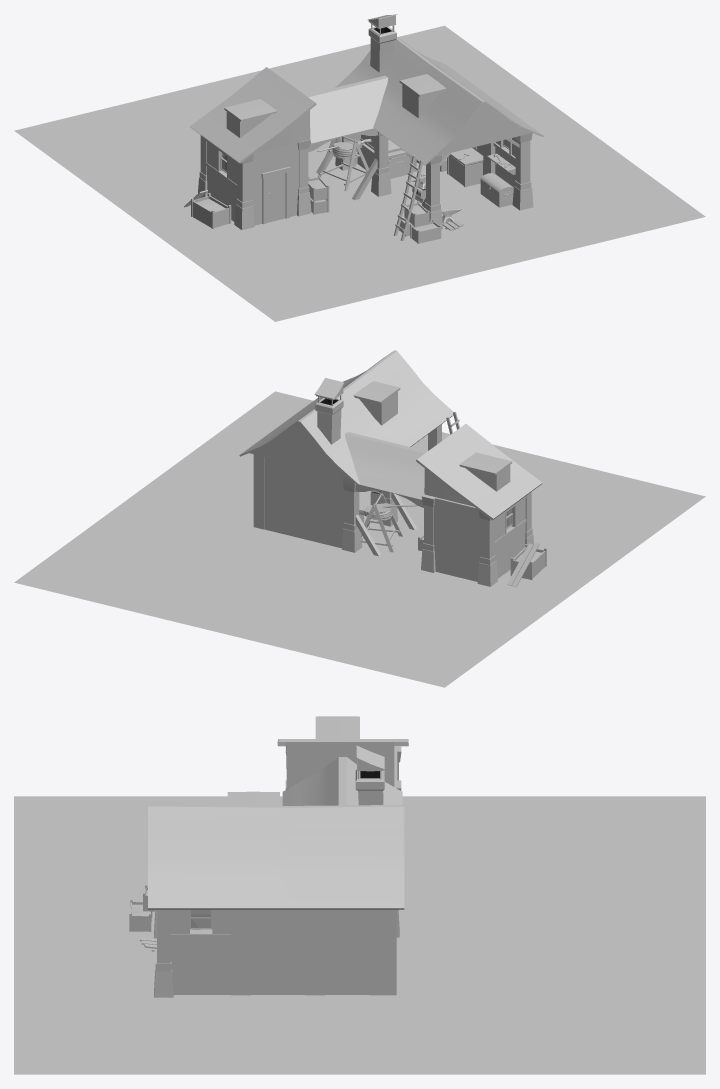
Rendered from Forge.fbx.
The picture shows the model from 3 angles, top to bottom: view 1: azimuth 30°, elevation 25°; view 2: azimuth 150°, elevation 25°; view 3: azimuth 270°, elevation 25°; orthographic projection. The views are drawn at different scales.
Parts seen in each view (by area): view 1: pointLight2; view 2: pointLight2; view 3: pointLight2.
Boxes of the visible parts, box(x1,y1,x2,y2) form: pointLight2: box(14, 14, 705, 321); pointLight2: box(14, 350, 705, 687); pointLight2: box(14, 716, 705, 1074).
Bounding box in the file's own units: 19.24 × 6.55 × 20.2.
